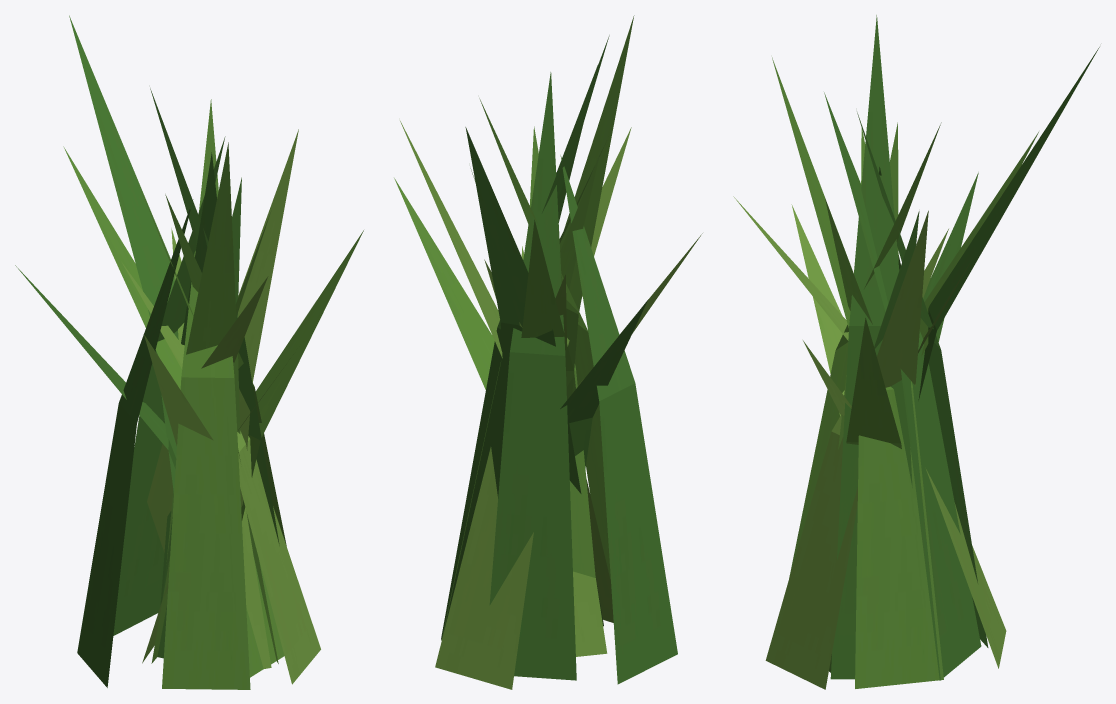
File: grass_tuft_01.glb
3 renders of one model, left to right at view 1: azimuth 30°, elevation 25°; view 2: azimuth 150°, elevation 25°; view 3: azimuth 270°, elevation 25°, orthographic. The views are drawn at different scales.
Visible parts, largest first — view 1: grass_tuft_01; view 2: grass_tuft_01; view 3: grass_tuft_01.
Part boxes in pixels (x1,y1,x2,y2): grass_tuft_01: (15,15,363,689); grass_tuft_01: (394,15,702,689); grass_tuft_01: (733,15,1099,689).
Size of the model in its own units: 0.3854 by 0.7239 by 0.4028.
Materials: 3 (3 with a texture image).
